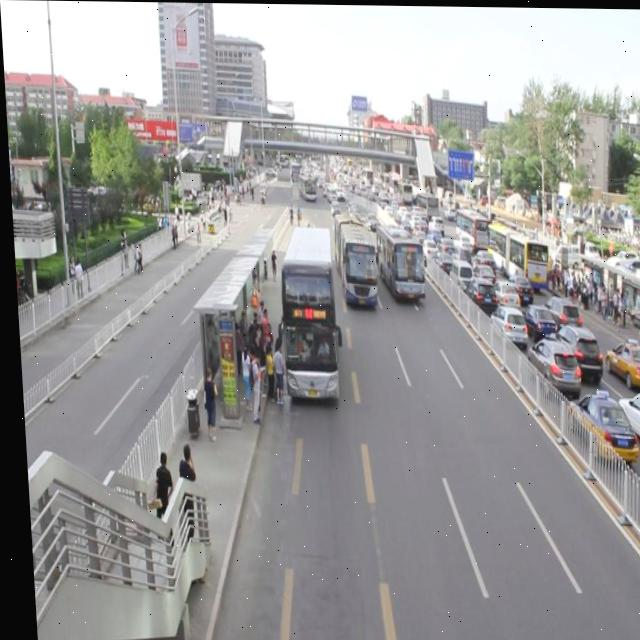car: (363, 211, 378, 231), (345, 202, 356, 218), (328, 196, 337, 214)
van: (275, 226, 335, 399), (332, 214, 373, 307), (373, 224, 420, 300)
